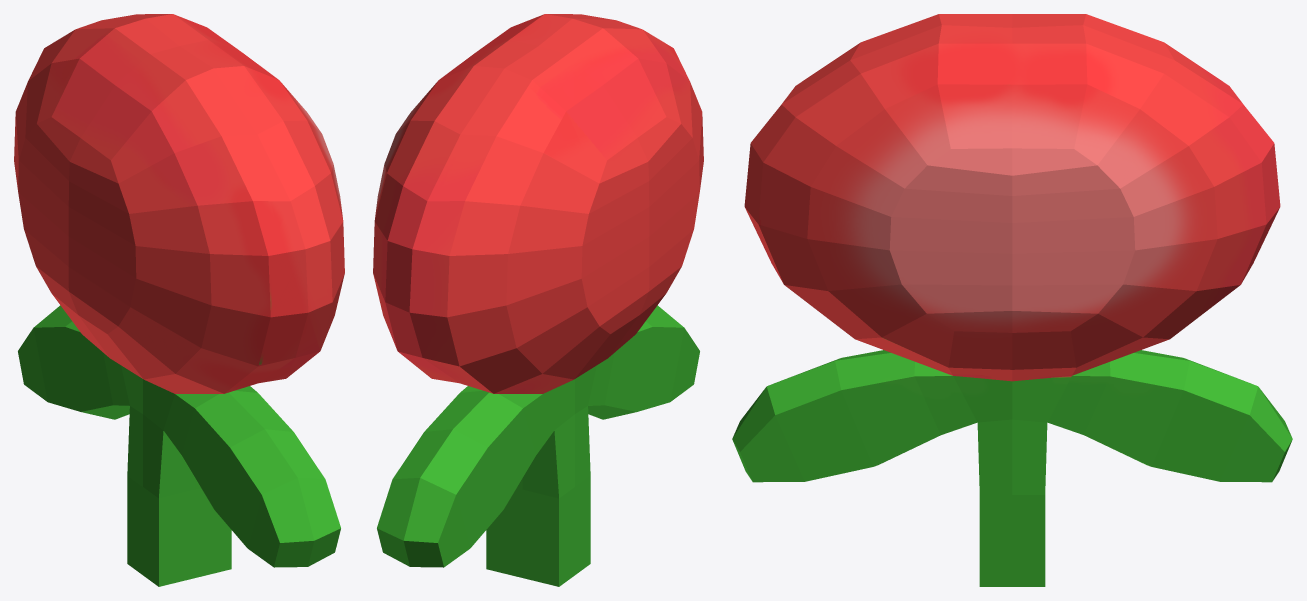
File: FlowerRed.fbx
3 views of the same model, side by side, from view 1: azimuth 30°, elevation 25°; view 2: azimuth 150°, elevation 25°; view 3: azimuth 270°, elevation 25° (orthographic). The views are drawn at different scales.
Visible parts, largest first — view 1: Flower; view 2: Flower; view 3: Flower.
Boxes of the visible parts, x1,y1,x2,y2 form: Flower: (14, 14, 344, 586); Flower: (373, 14, 703, 586); Flower: (732, 14, 1292, 586).
Size of the model in its own units: 192 by 433 by 405.
Materials: 1 (1 with a texture image).
